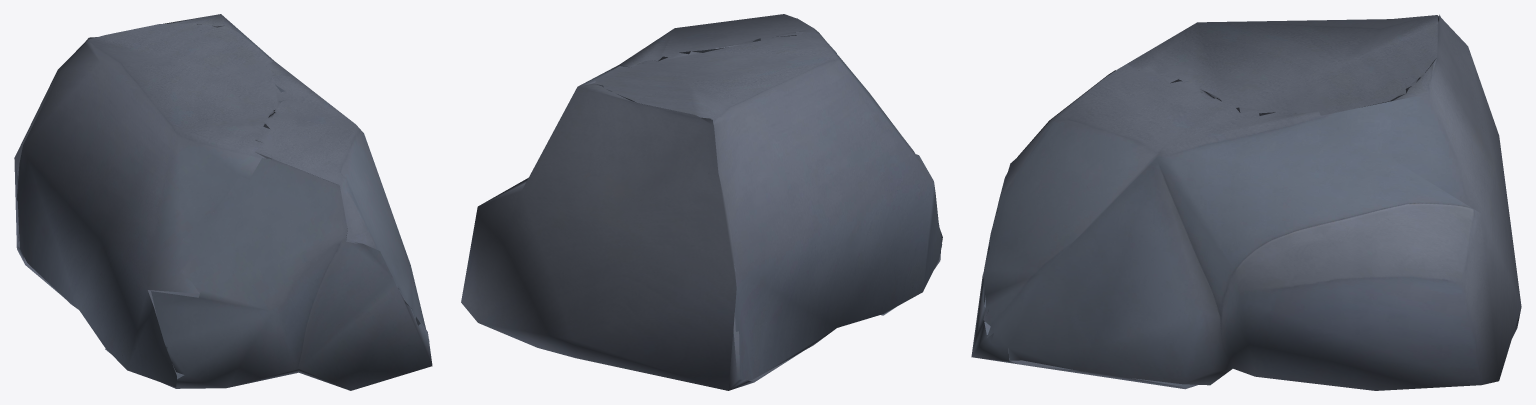
3 renders of one model, left to right at view 1: azimuth 30°, elevation 25°; view 2: azimuth 150°, elevation 25°; view 3: azimuth 270°, elevation 25°, orthographic. The views are drawn at different scales.
Visible parts, largest first — view 1: quad; view 2: quad; view 3: quad.
Boxes of the visible parts, x1=… form: quad: x1=14, y1=14, x2=432, y2=390; quad: x1=461, y1=14, x2=942, y2=390; quad: x1=971, y1=14, x2=1521, y2=390.
Bounding box in the file's own units: 218 × 165 × 300.
1 material, 1 textured.
